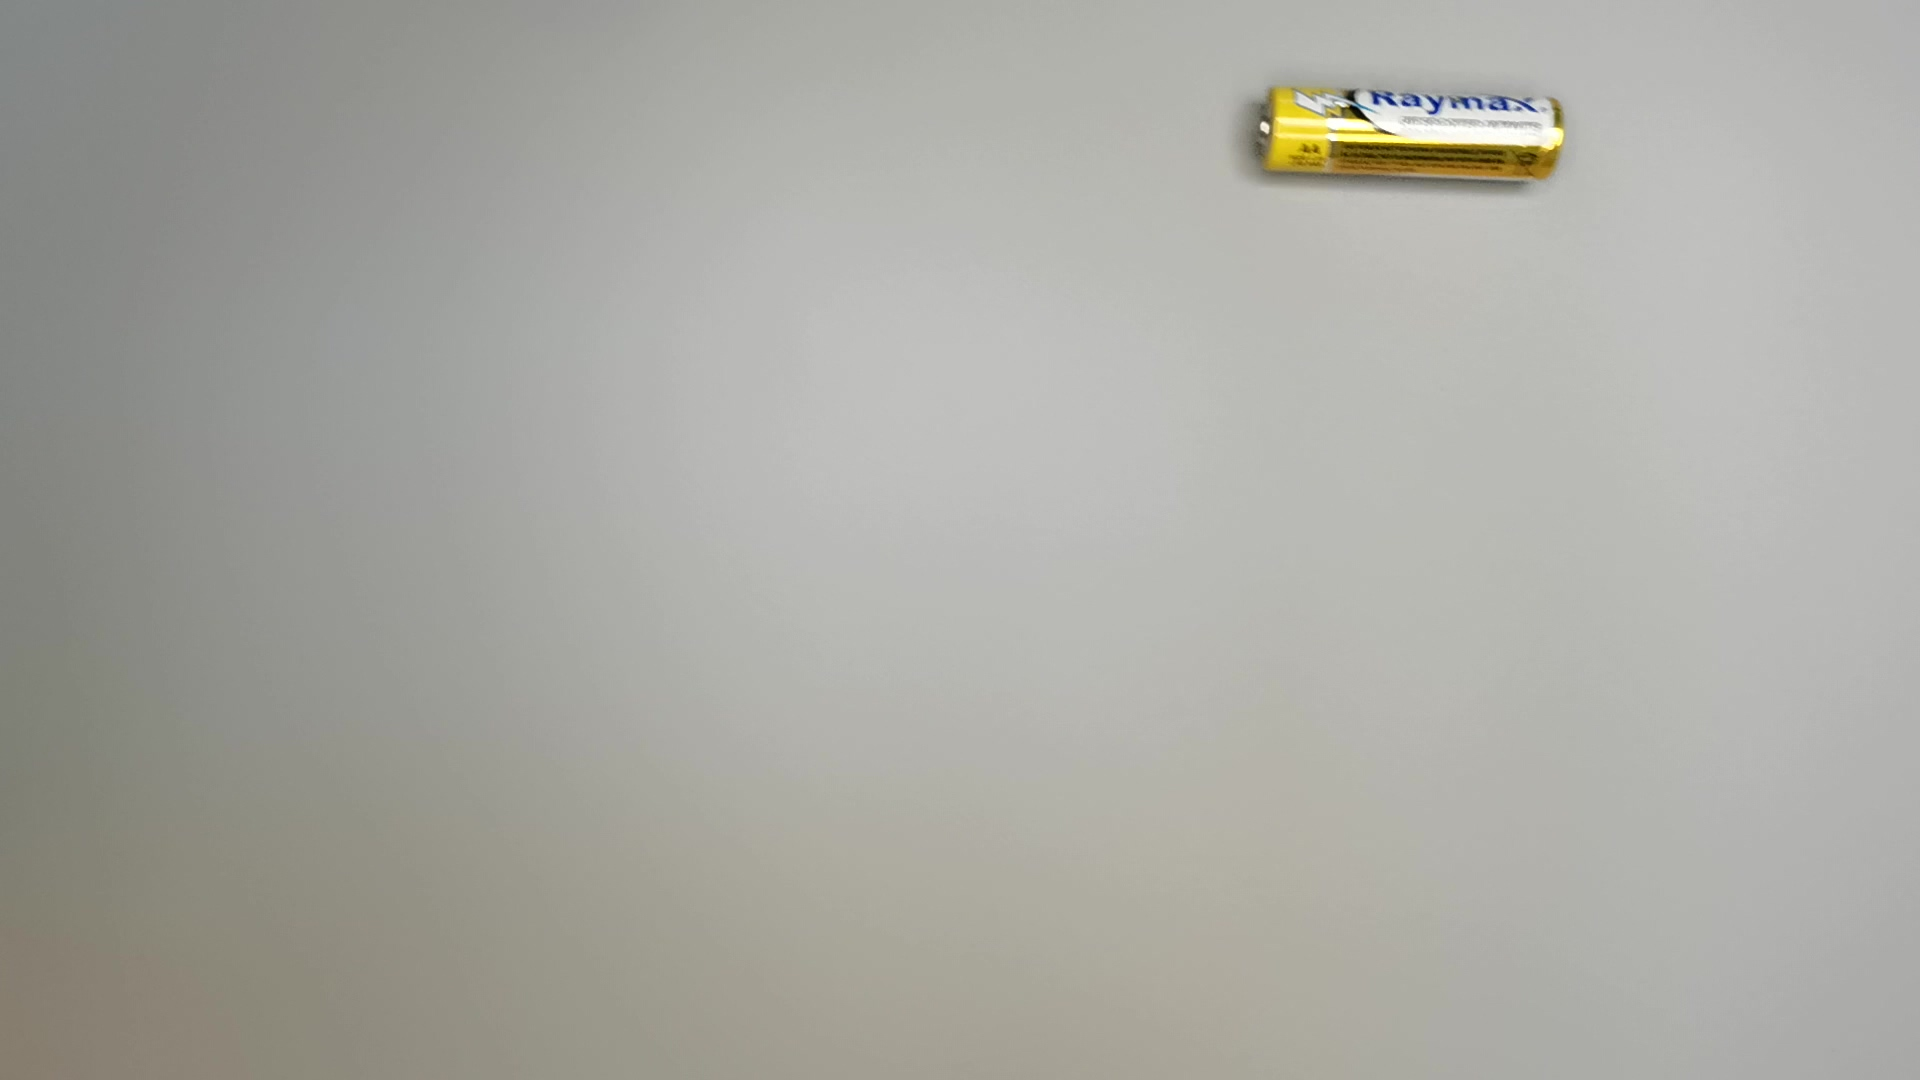battery: (1255, 78, 1571, 185)
